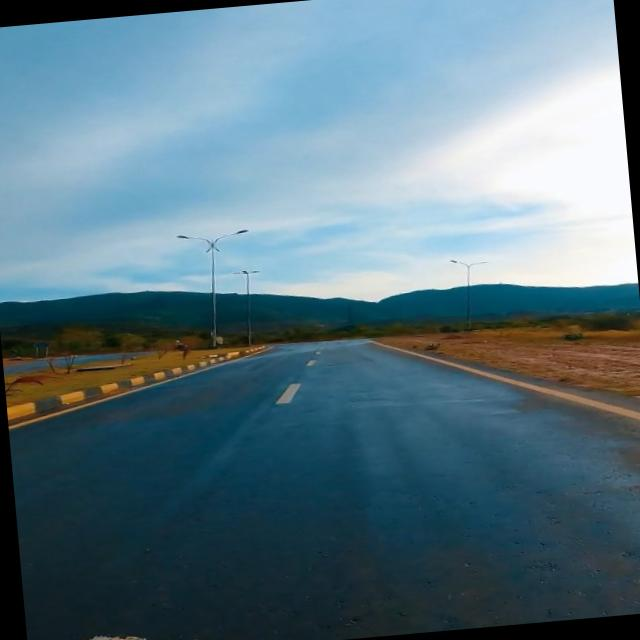asphalt: (8, 340, 640, 640)
grass: (377, 320, 640, 394), (5, 350, 223, 406)
